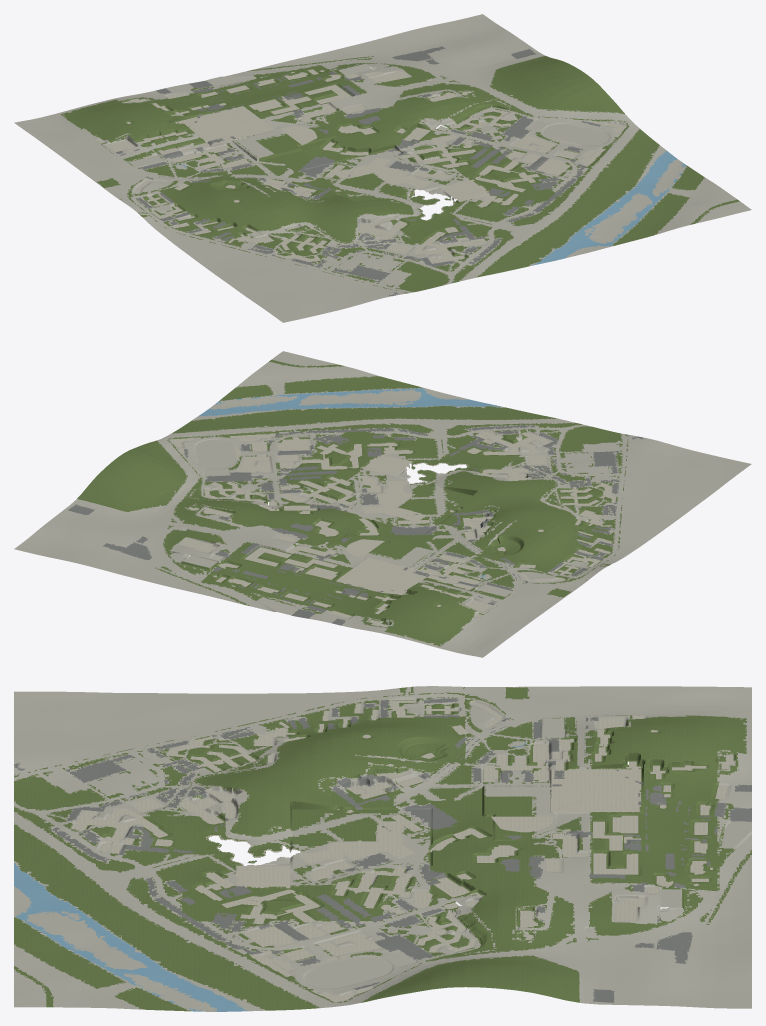
3 renders of one model, top to bottom at view 1: azimuth 30°, elevation 25°; view 2: azimuth 150°, elevation 25°; view 3: azimuth 270°, elevation 25°, orthographic. The views are drawn at different scales.
Visible parts, largest first — view 1: kaist-base, kaist-woodOver, kaist-paving, kaist-wood, kaist-grass, kaist-asphalt, kaist-sportsTurf, kaist-grass-overlay, kaist-asphalt-overlay, kaist-water, kaist-wood-overlay, kaist-woodOver-overlay (+3 smaller); view 2: kaist-base, kaist-woodOver, kaist-paving, kaist-wood, kaist-grass, kaist-asphalt, kaist-sportsTurf, kaist-grass-overlay, kaist-asphalt-overlay, kaist-water, kaist-wood-overlay, kaist-woodOver-overlay (+2 smaller); view 3: kaist-base, kaist-woodOver, kaist-paving, kaist-grass, kaist-wood, kaist-sportsTurf, kaist-asphalt, kaist-grass-overlay, kaist-asphalt-overlay, kaist-water, kaist-wood-overlay, kaist-woodOver-overlay (+4 smaller).
Boxes of the visible parts, x1,y1,x2,y2 form: kaist-base: [14, 14, 751, 322]; kaist-woodOver: [99, 65, 559, 244]; kaist-paving: [97, 67, 625, 262]; kaist-wood: [61, 56, 739, 281]; kaist-grass: [97, 58, 628, 293]; kaist-asphalt: [116, 47, 600, 296]; kaist-sportsTurf: [477, 129, 704, 277]; kaist-grass-overlay: [97, 58, 628, 293]; kaist-asphalt-overlay: [116, 46, 600, 295]; kaist-water: [183, 151, 686, 265]; kaist-wood-overlay: [61, 56, 737, 282]; kaist-woodOver-overlay: [98, 65, 561, 244]; kaist-base: [14, 351, 751, 657]; kaist-woodOver: [201, 428, 608, 627]; kaist-paving: [173, 431, 615, 627]; kaist-wood: [77, 359, 622, 645]; kaist-grass: [161, 423, 627, 627]; kaist-asphalt: [69, 425, 643, 625]; kaist-sportsTurf: [173, 376, 556, 433]; kaist-grass-overlay: [161, 423, 628, 628]; kaist-asphalt-overlay: [68, 425, 644, 625]; kaist-water: [199, 388, 501, 576]; kaist-wood-overlay: [79, 361, 622, 646]; kaist-woodOver-overlay: [202, 427, 610, 627]; kaist-base: [14, 686, 751, 1011]; kaist-woodOver: [143, 716, 718, 921]; kaist-paving: [74, 700, 734, 1002]; kaist-grass: [14, 686, 737, 1002]; kaist-wood: [14, 687, 751, 1007]; kaist-sportsTurf: [14, 824, 318, 1011]; kaist-asphalt: [14, 698, 751, 1002]; kaist-grass-overlay: [14, 687, 738, 1002]; kaist-asphalt-overlay: [14, 698, 751, 1002]; kaist-water: [14, 746, 520, 1011]; kaist-wood-overlay: [14, 687, 751, 1007]; kaist-woodOver-overlay: [142, 716, 719, 921].
Size of the model in its own units: 1376 by 51.2 by 1368.
Materials: 19 (17 with a texture image).
